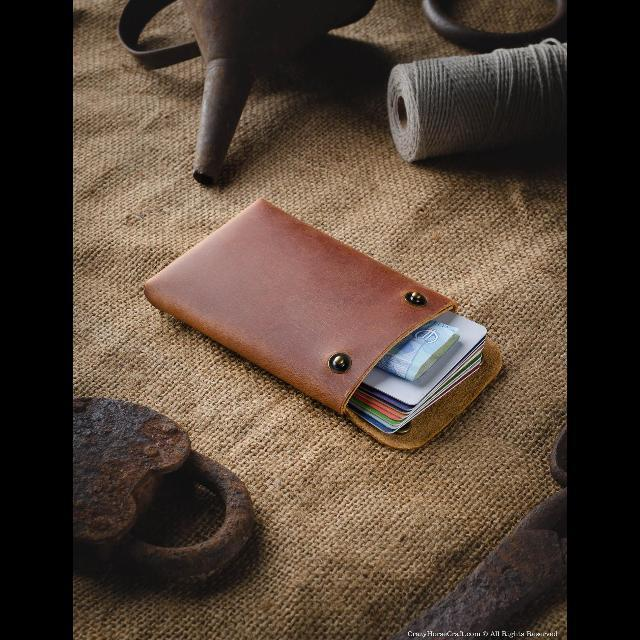wallet: (138, 195, 507, 457)
